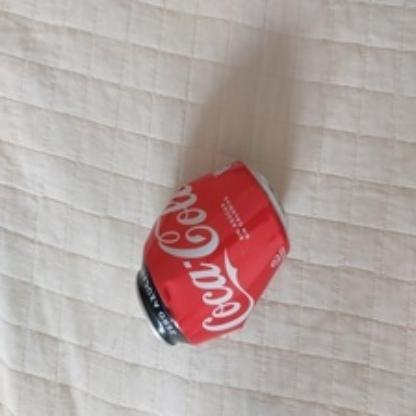Can: (135, 160, 291, 345)
